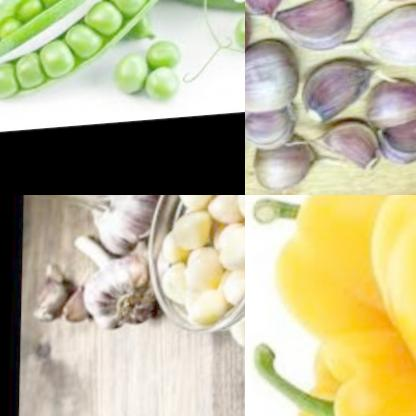bell pepper: (267, 195, 416, 360), (278, 306, 416, 416), (362, 195, 416, 395)
garlic: (146, 195, 245, 340), (64, 237, 163, 341), (21, 195, 154, 270), (296, 57, 388, 135), (327, 10, 416, 75), (270, 0, 353, 64), (245, 46, 304, 133), (249, 140, 341, 195), (308, 129, 386, 181), (24, 263, 73, 337), (365, 80, 416, 147), (245, 105, 300, 164), (371, 109, 416, 177), (56, 291, 85, 335), (224, 310, 245, 355)
peas: (0, 0, 245, 124), (114, 34, 211, 109), (229, 4, 245, 64)
